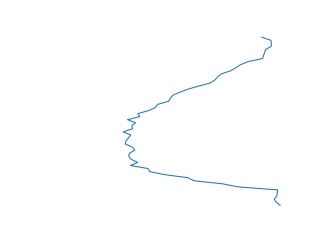underwaterDistributaryChannel: (120, 35, 284, 207)
